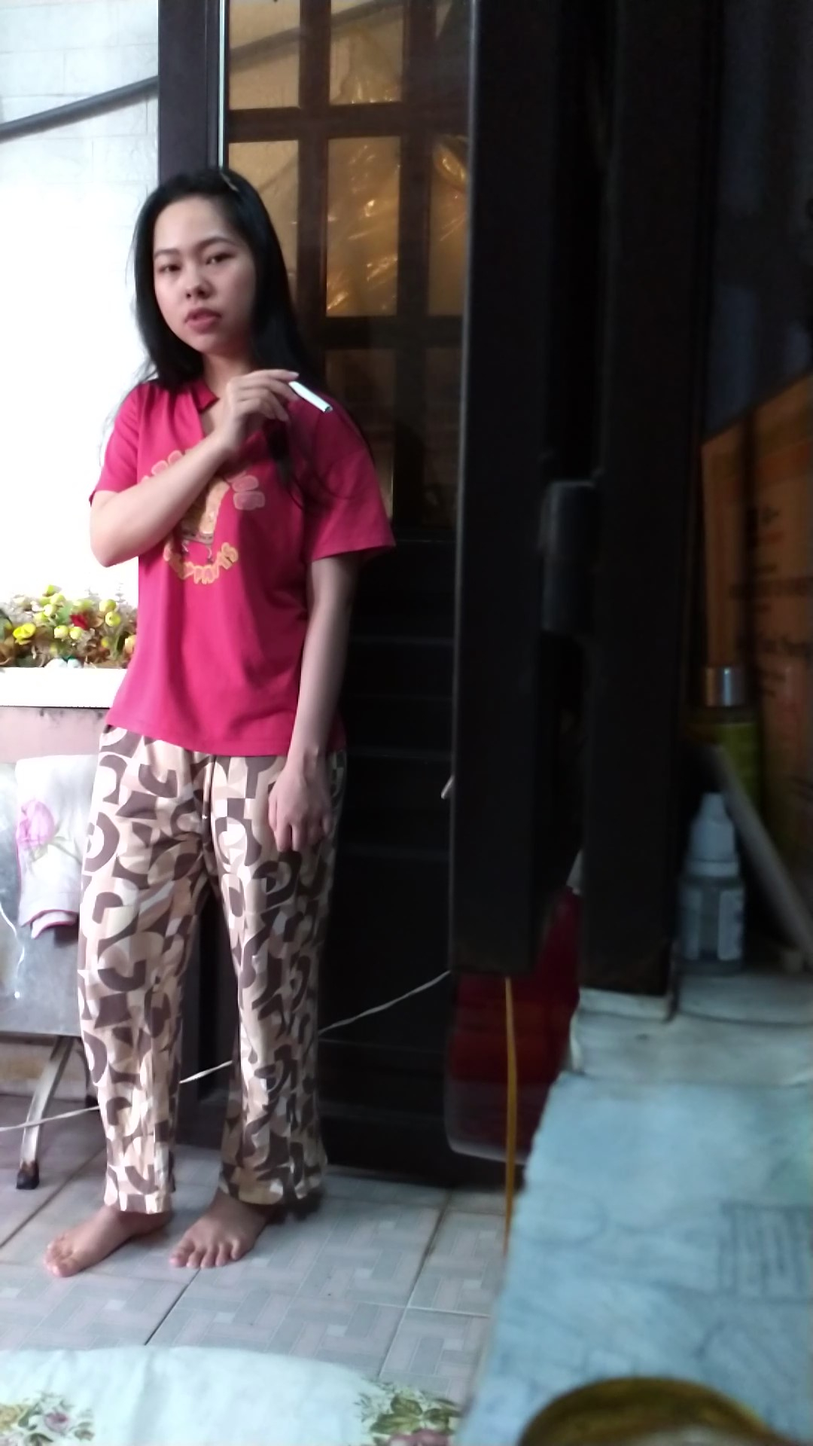cigarette: (288, 380, 335, 419)
person: (74, 146, 390, 1310)
